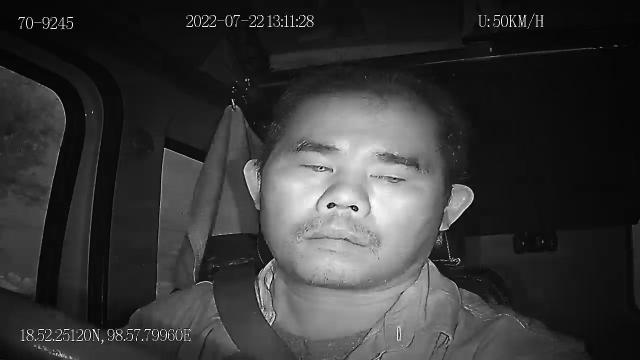SafeDriving: (362, 157, 422, 192), (290, 148, 346, 182)
Seatbelt: (210, 262, 300, 360)
